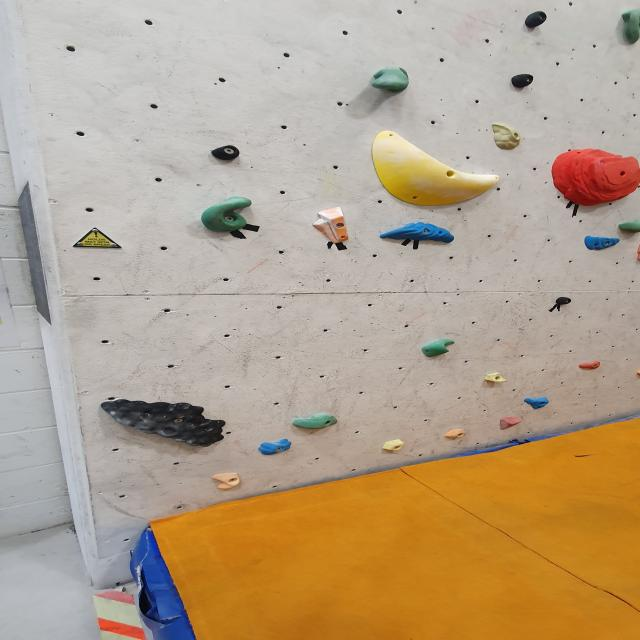Crimp: (377, 224, 459, 244), (489, 121, 525, 151), (254, 440, 301, 454), (582, 237, 622, 252), (214, 472, 242, 490), (378, 438, 406, 453), (521, 396, 553, 409), (498, 415, 526, 429), (483, 371, 510, 383), (576, 360, 606, 370), (441, 428, 470, 438)
Jug: (200, 196, 257, 234), (368, 67, 412, 93), (290, 414, 348, 431), (617, 4, 640, 44), (619, 218, 640, 233)
Pinch: (311, 204, 353, 247), (204, 142, 249, 160), (524, 11, 554, 27), (514, 72, 536, 88), (551, 295, 575, 306)
Sloper: (369, 131, 503, 206), (94, 396, 233, 446), (546, 152, 637, 209)
